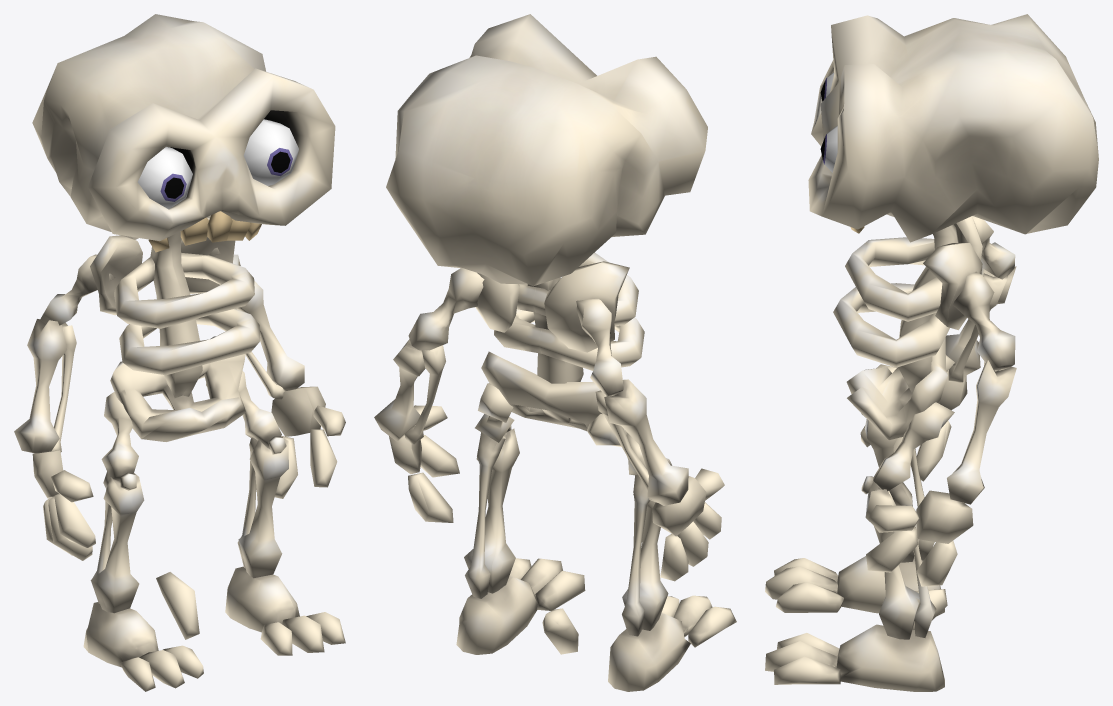
File: skeleton.glb
The picture shows the model from 3 angles, left to right: view 1: azimuth 30°, elevation 25°; view 2: azimuth 150°, elevation 25°; view 3: azimuth 270°, elevation 25°; orthographic projection. The views are drawn at different scales.
Parts seen in each view (by area): view 1: Object_6; view 2: Object_6; view 3: Object_6.
Boxes of the visible parts, x1=… form: Object_6: x1=14, y1=14, x2=345, y2=691; Object_6: x1=374, y1=14, x2=736, y2=691; Object_6: x1=765, y1=14, x2=1098, y2=691.
Bounding box in the file's own units: 1.41 × 2.63 × 1.29.
Materials: 5 (1 with a texture image).
